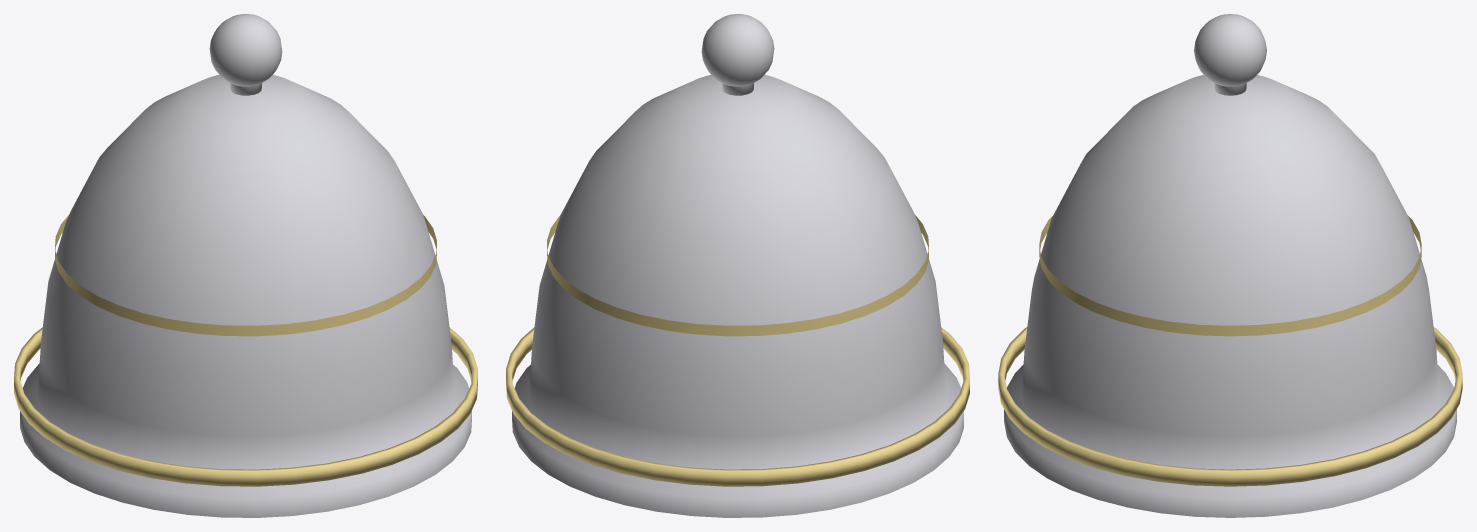
The model's file is Dome.fbx.
3 views of the same model, side by side, from view 1: azimuth 30°, elevation 25°; view 2: azimuth 150°, elevation 25°; view 3: azimuth 270°, elevation 25° (orthographic).
Parts seen in each view (by area): view 1: Dome_Body, Dome_Gold; view 2: Dome_Body, Dome_Gold; view 3: Dome_Body, Dome_Gold.
Part boxes in pixels (<box>): Dome_Body: <box>20,14,471,517</box>; Dome_Gold: <box>14,215,477,486</box>; Dome_Body: <box>512,14,963,517</box>; Dome_Gold: <box>506,215,969,486</box>; Dome_Body: <box>1004,14,1456,517</box>; Dome_Gold: <box>998,216,1462,486</box>.
Bounding box in the file's own units: 6.36 × 6.12 × 6.36.
